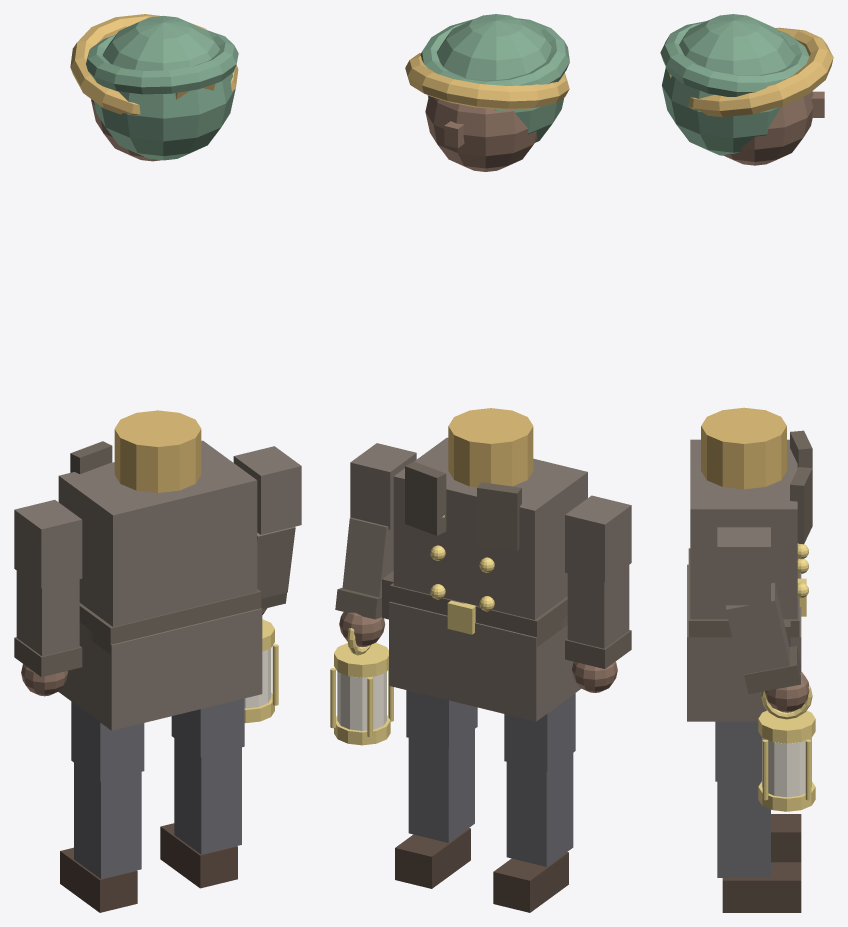
File: harriet.glb
3 views of the same model, side by side, from view 1: azimuth 30°, elevation 25°; view 2: azimuth 150°, elevation 25°; view 3: azimuth 270°, elevation 25° (orthographic). The views are drawn at different scales.
Visible parts, largest first — view 1: Torso, Head, LeftLeg, RightLeg, LeftArm, RightArm; view 2: Torso, Head, RightArm, LeftLeg, RightLeg, LeftArm; view 3: Torso, Head, RightArm, RightLeg, LeftLeg.
Part boxes in pixels (bbox=[...]): Torso: bbox=[58, 410, 262, 730]; Head: bbox=[70, 14, 238, 161]; LeftLeg: bbox=[60, 701, 144, 912]; RightLeg: bbox=[160, 698, 244, 888]; LeftArm: bbox=[14, 500, 82, 696]; RightArm: bbox=[233, 446, 301, 722]; Torso: bbox=[382, 408, 587, 721]; Head: bbox=[405, 14, 569, 171]; RightArm: bbox=[330, 443, 416, 745]; LeftLeg: bbox=[493, 693, 575, 912]; RightLeg: bbox=[395, 690, 477, 888]; LeftArm: bbox=[565, 495, 631, 692]; Torso: bbox=[687, 407, 812, 721]; Head: bbox=[660, 14, 833, 165]; RightArm: bbox=[717, 527, 815, 811]; RightLeg: bbox=[715, 721, 801, 912]; LeftLeg: bbox=[771, 814, 801, 862].
Size of the model in its own units: 0.845 by 2.65 by 0.4842.
